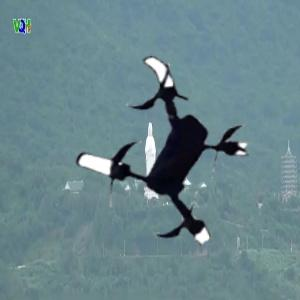drone: (60, 53, 260, 253)
